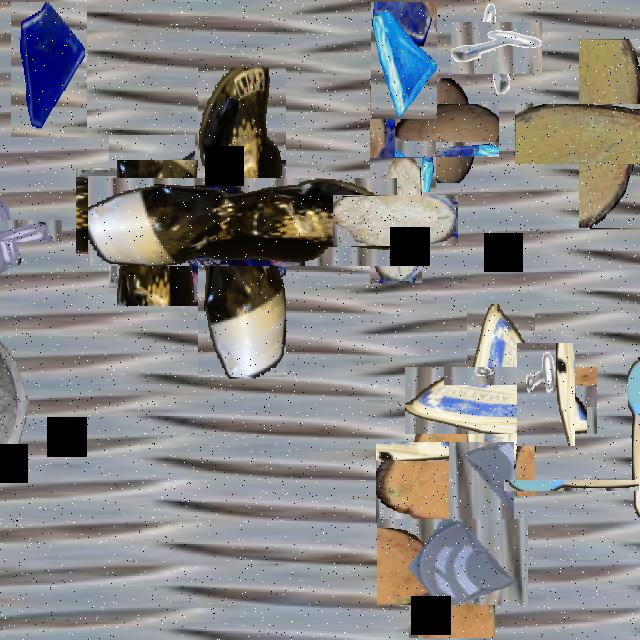glass: (392, 502, 512, 622), (92, 152, 212, 271), (11, 2, 87, 137), (370, 75, 436, 192), (371, 2, 437, 119), (0, 323, 41, 473), (0, 199, 42, 262)
metal: (517, 343, 575, 446), (460, 12, 532, 84)
plastic: (142, 123, 342, 321), (117, 160, 279, 306), (436, 335, 566, 465), (566, 417, 640, 553)
wood: (390, 427, 500, 537), (547, 71, 640, 195), (352, 176, 440, 265), (408, 91, 487, 169)
